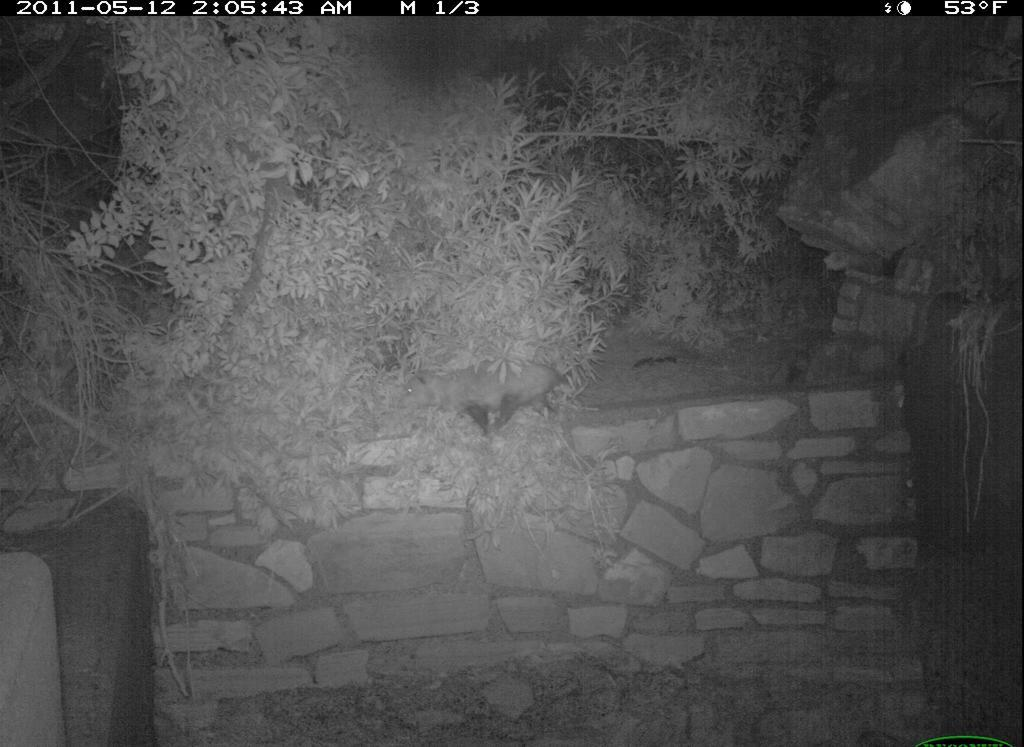opossum: (394, 357, 573, 437)
